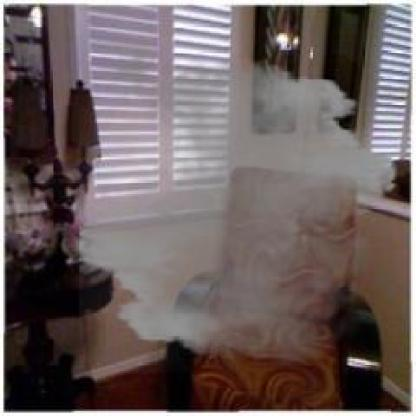Smoke: (65, 37, 408, 374)
